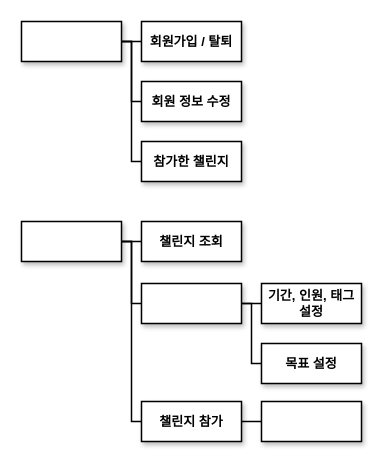
The diagram is 386 pixels wide and 467 high, and some of its shapes have lost their labels. Here are the shapes that lost their labels. From the top down, the centre of each, then its label:
the point at 72,42: 회원 관리
the point at 72,242: 챌린지
the point at 192,304: 챌린지 등록
the point at 312,422: 채팅 작성
